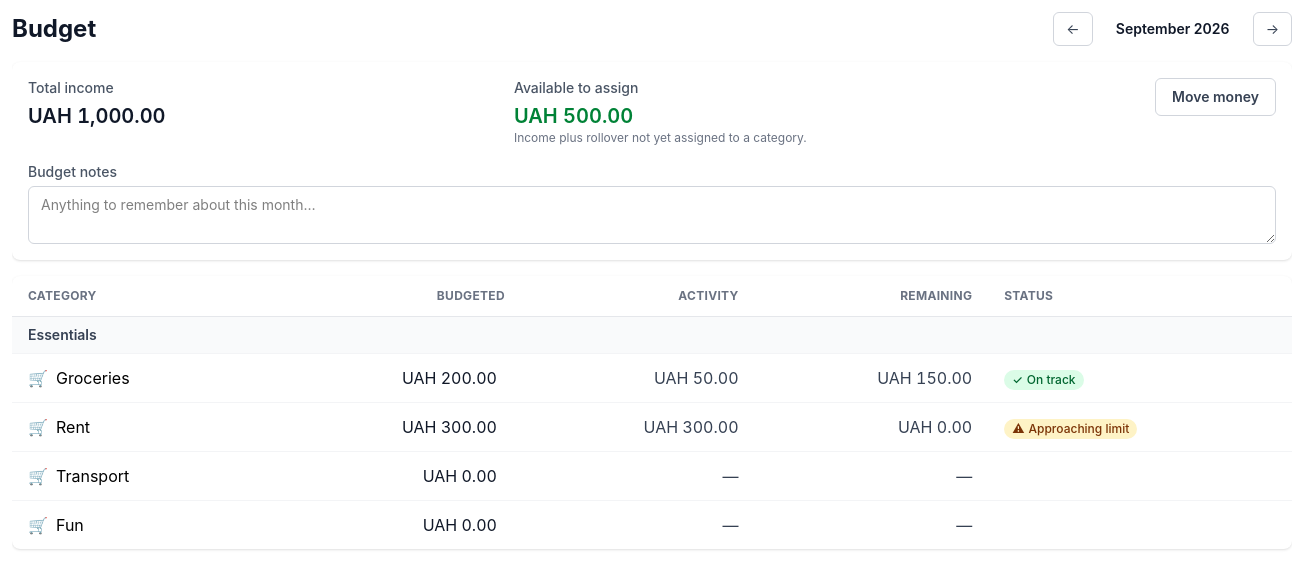
Test case: BudgetPage › shows the header math and updates unallocated after editing an allocation
Expected: the text with test id "available-to-assign" shows "500.00", [514,104,633,128]
Click the button with aria-label "Edit budgeted amount for Groceries" at (449, 378), box [394,362,505,394]
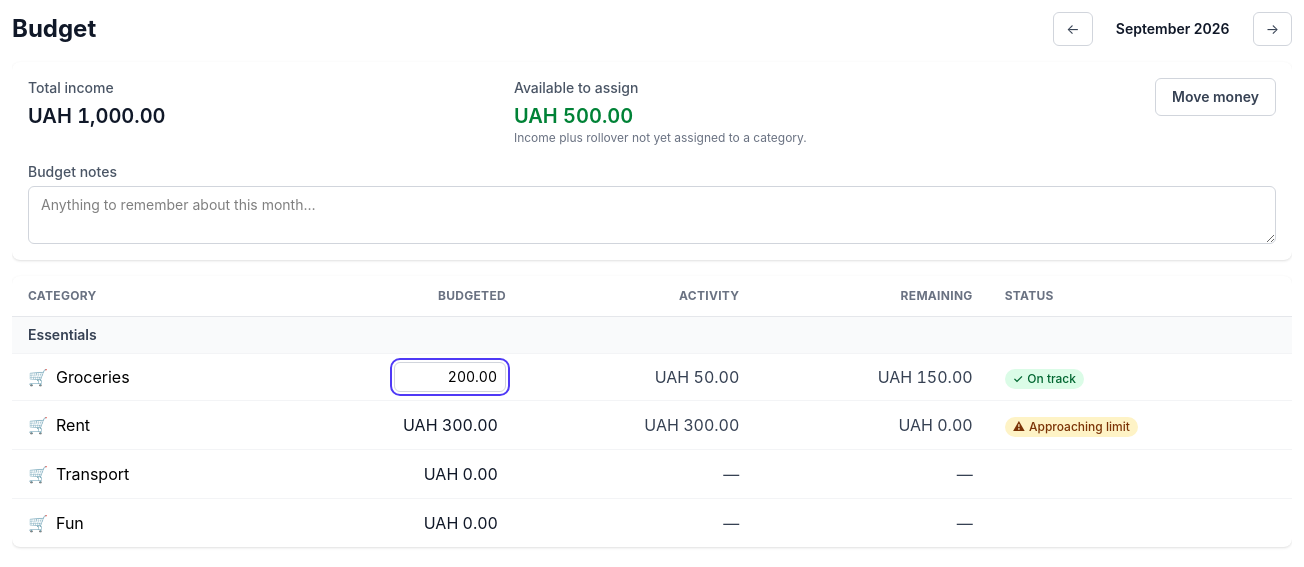
Expected: the field named "Budgeted amount for Groceries" holds "200.00"
Replace the text in the field named "Budgeted amount for Groceries" with "300.00" at (450, 377), box [394,362,506,392]
Then press Enter
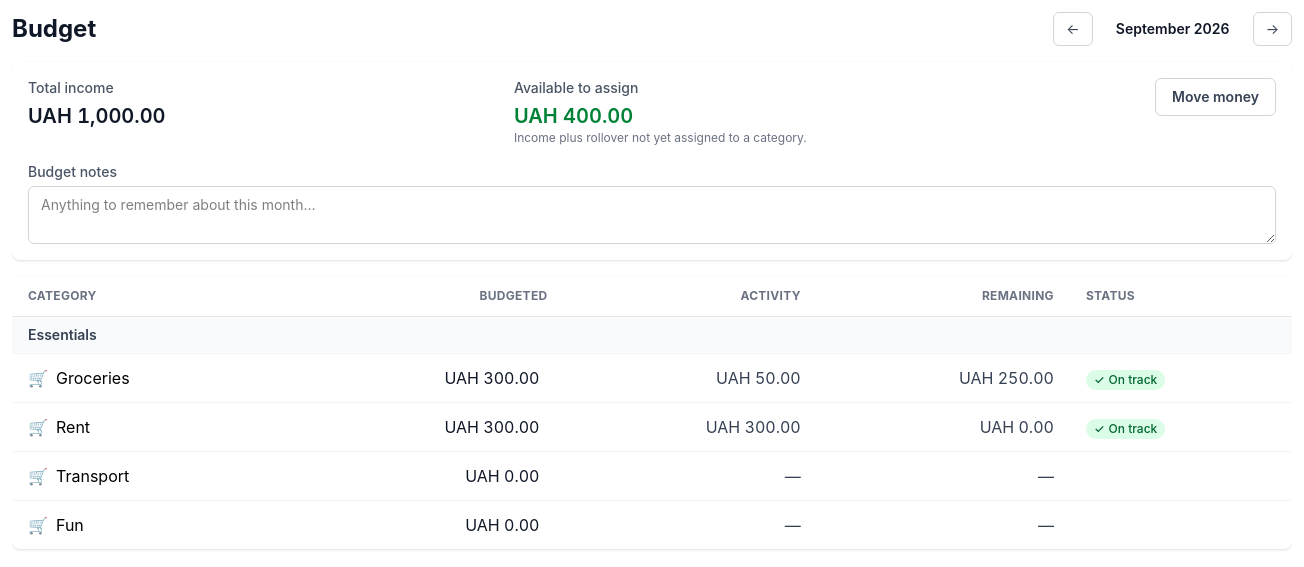
Expected: the text with test id "available-to-assign" shows "400.00", [514,104,633,128]
